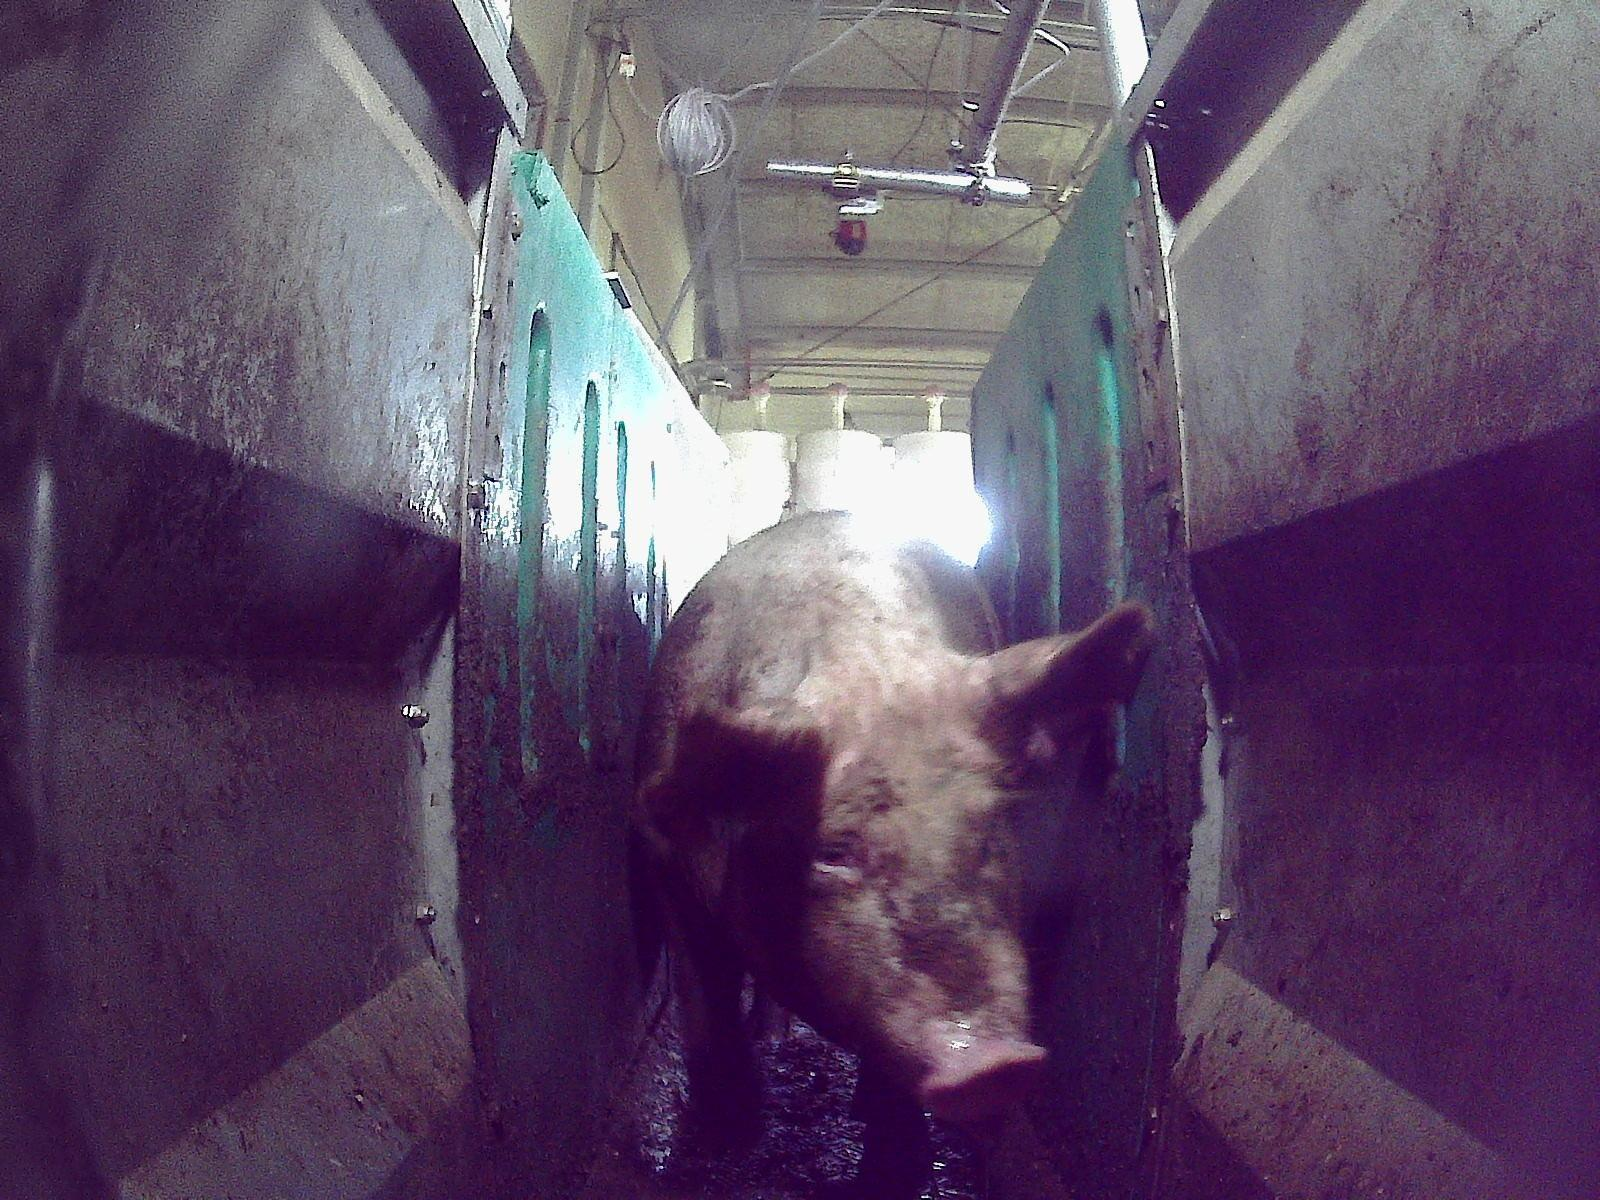Face: (710, 676, 1047, 1116)
